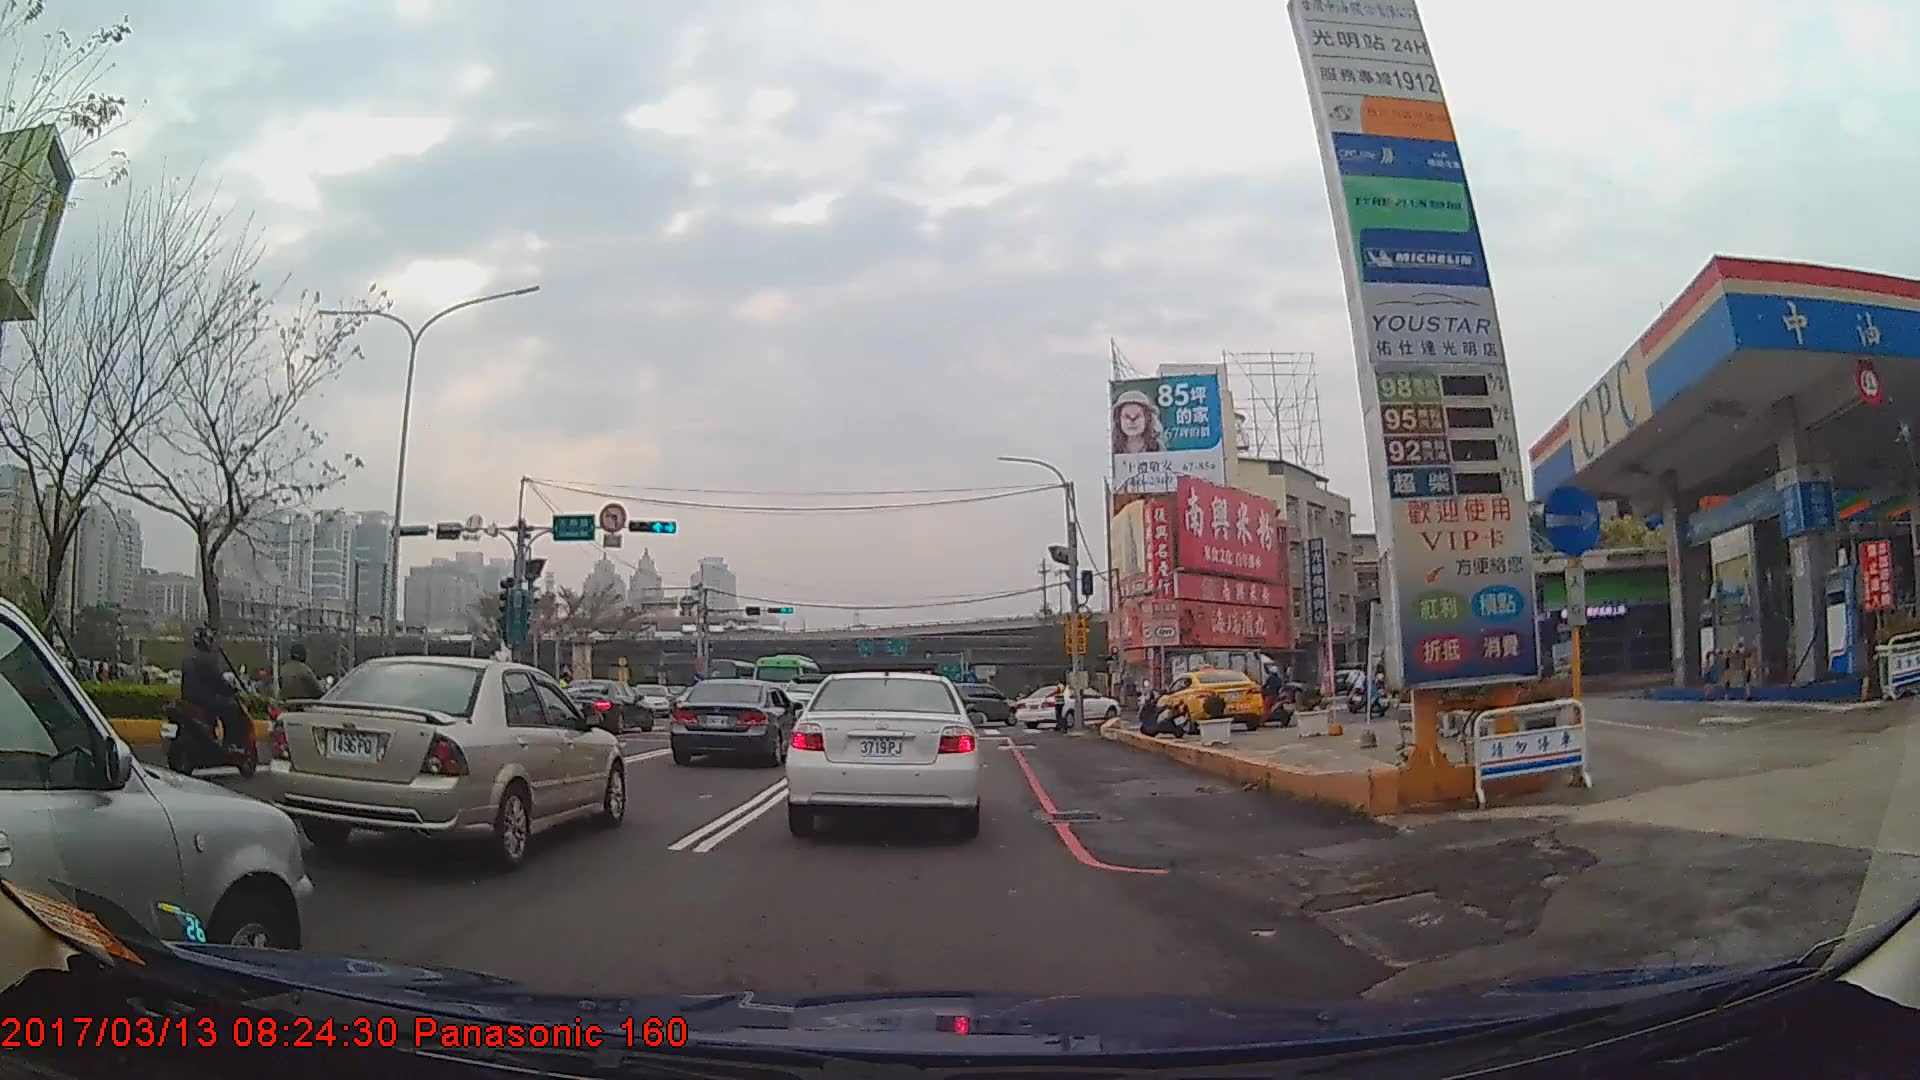pedestrian: (1040, 677, 1067, 734)
rider: (163, 626, 257, 781), (272, 642, 346, 763), (1346, 656, 1390, 718), (1256, 666, 1294, 726)
vehicle: (0, 599, 314, 995), (271, 654, 626, 871), (787, 664, 983, 837), (671, 678, 802, 767), (1166, 647, 1282, 714), (1158, 668, 1270, 732), (555, 679, 655, 733), (1016, 682, 1121, 729), (751, 653, 824, 711), (939, 682, 1021, 728)
